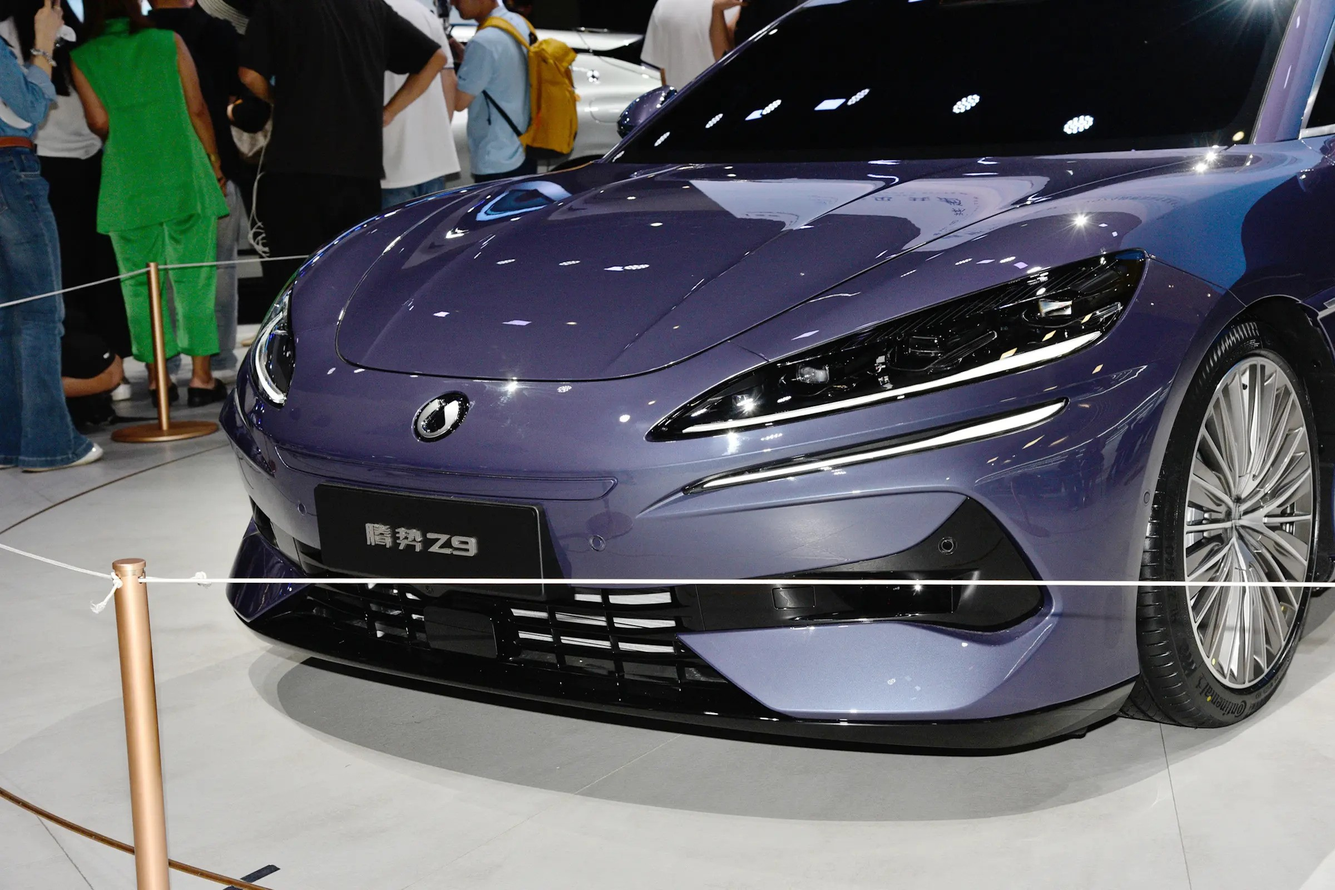DENZA: (418, 399, 458, 437)
